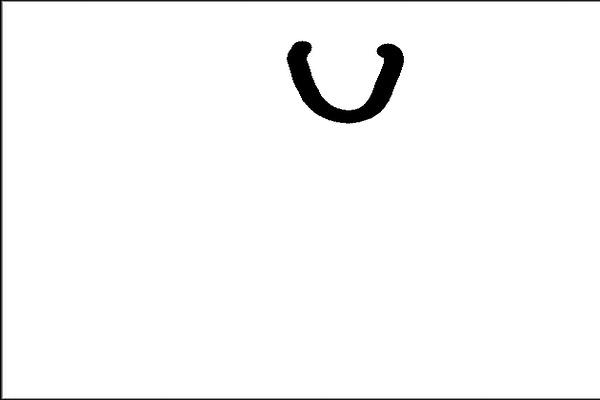U: (276, 29, 409, 125)
